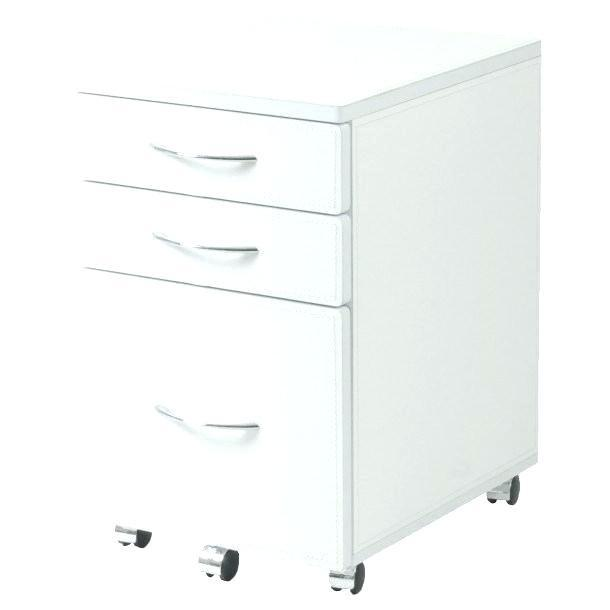cabinet_door: (93, 299, 347, 545), (93, 207, 340, 298), (91, 114, 340, 200)
handle: (157, 395, 262, 450), (153, 229, 263, 270), (153, 138, 262, 178)
